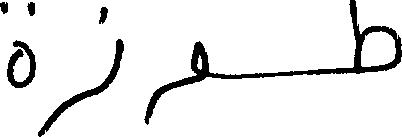X: (39, 2, 122, 136), (145, 36, 208, 129), (352, 0, 401, 78), (0, 0, 34, 92)
